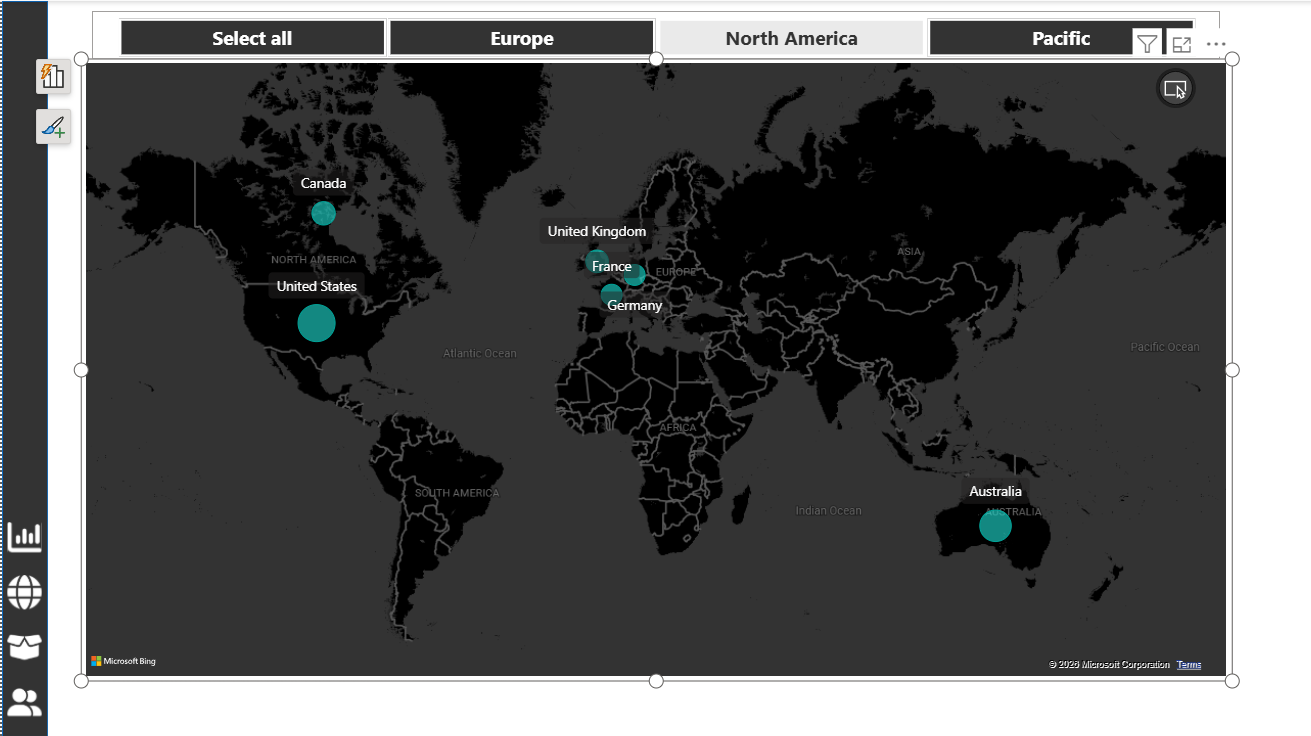

Layout of this report page (visuals, bound fields, positions):
{"tool":"powerbi","page":{"name":"Map","canvas":[1280,720],"ordinal":1},"visuals":[{"type":"shape","box":[0,0,45,720],"z":0},{"type":"map","fields":{"Category":["Territory Lookup.Country"],"Size":["Measure Table.Total Orders"]},"box":[77,56,1126,609],"z":1000},{"type":"actionButton","box":[1.2,665.2,45.2,41.6],"z":1000,"group":"g1"},{"type":"slicer","fields":{"Values":["Territory Lookup.Continent"]},"box":[88,10,1103,46],"z":2000},{"type":"actionButton","box":[1.2,503.8,45.2,41.6],"z":2000,"group":"g1"},{"type":"group","id":"g1","title":"Navigation buttons","box":[1.2,503.8,45.2,203],"z":3000},{"type":"actionButton","box":[1.2,611.4,45.2,41.6],"z":3000,"group":"g1"},{"type":"actionButton","box":[1.2,557.6,45.2,41.6],"z":4000,"group":"g1"}]}

Visuals, with their boxes in screenshot pixels (x1, y1, x2, y2):
shape: box(0, 0, 45, 727)
map - Territory Lookup.Country x Measure Table.Total Orders: box(78, 57, 1215, 672)
actionButton: box(1, 672, 47, 714)
slicer - Territory Lookup.Continent: box(89, 10, 1203, 57)
actionButton: box(1, 509, 47, 551)
"Navigation buttons" group: box(1, 509, 47, 714)
actionButton: box(1, 618, 47, 660)
actionButton: box(1, 563, 47, 605)
